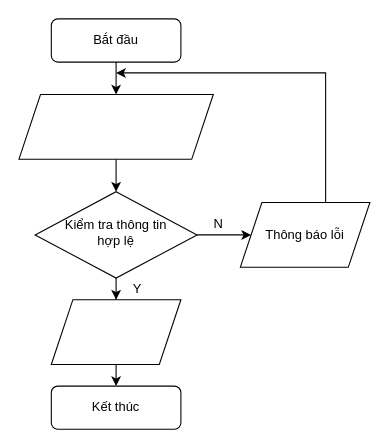
This 389x448 diagram has some shape labels left out. Each missing label, with the box of its shape:
Hiển thị Menu: (50, 299, 181, 364)
Nhập tài khoản, mật khẩu: (18, 93, 213, 159)
